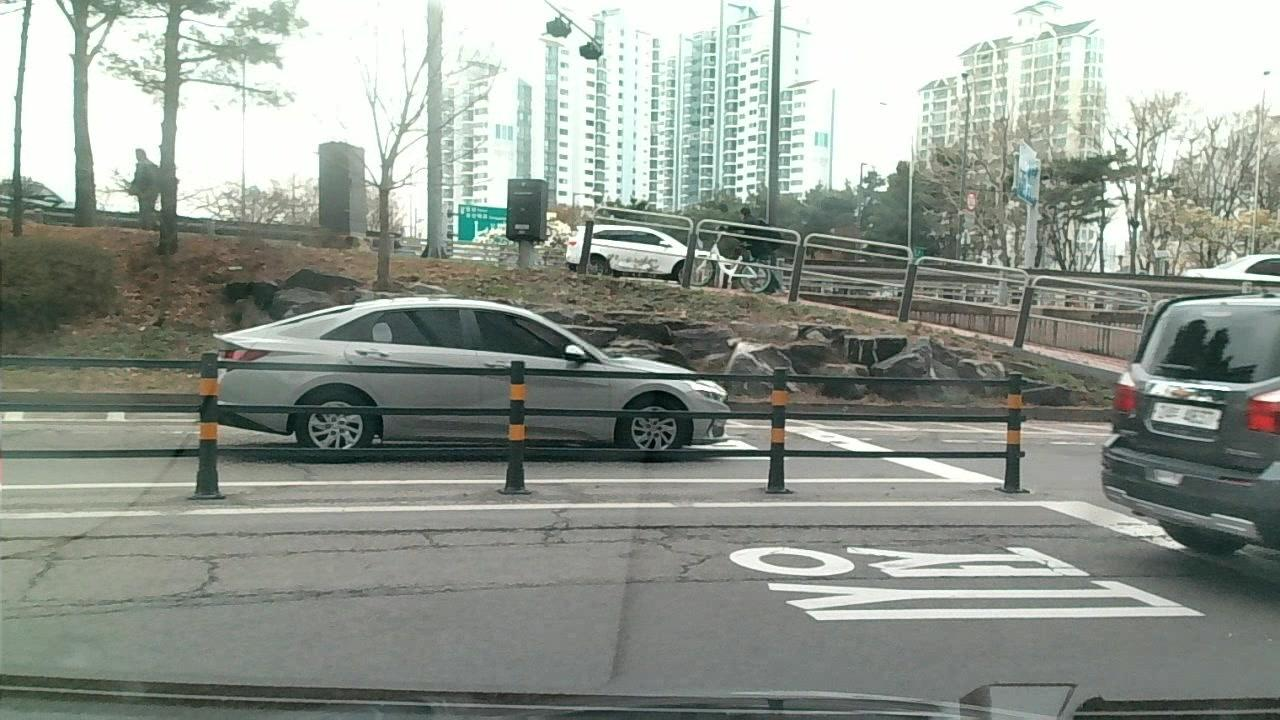erosion: (3, 512, 1162, 614)
